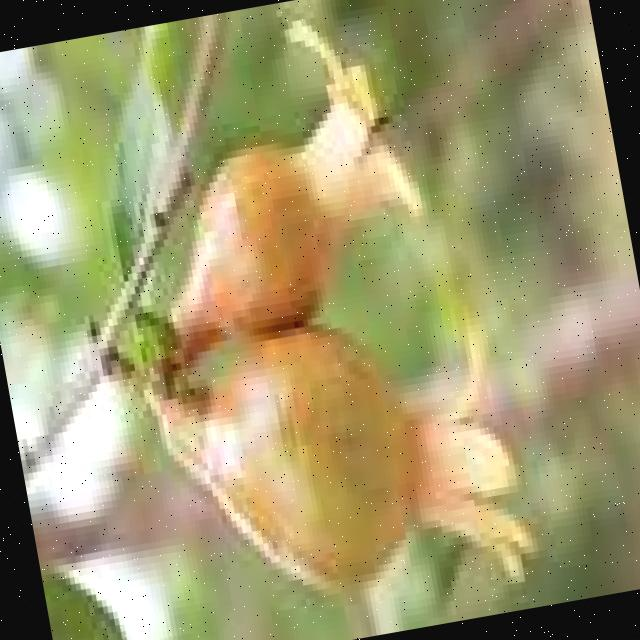Pomegranate: (146, 286, 547, 640), (121, 16, 437, 338)
